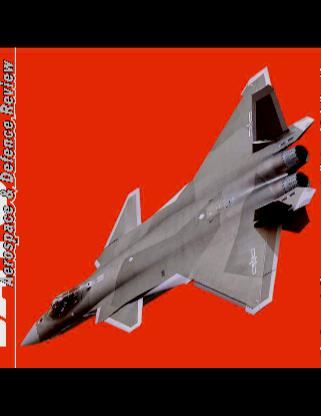F4: (18, 66, 315, 346)
